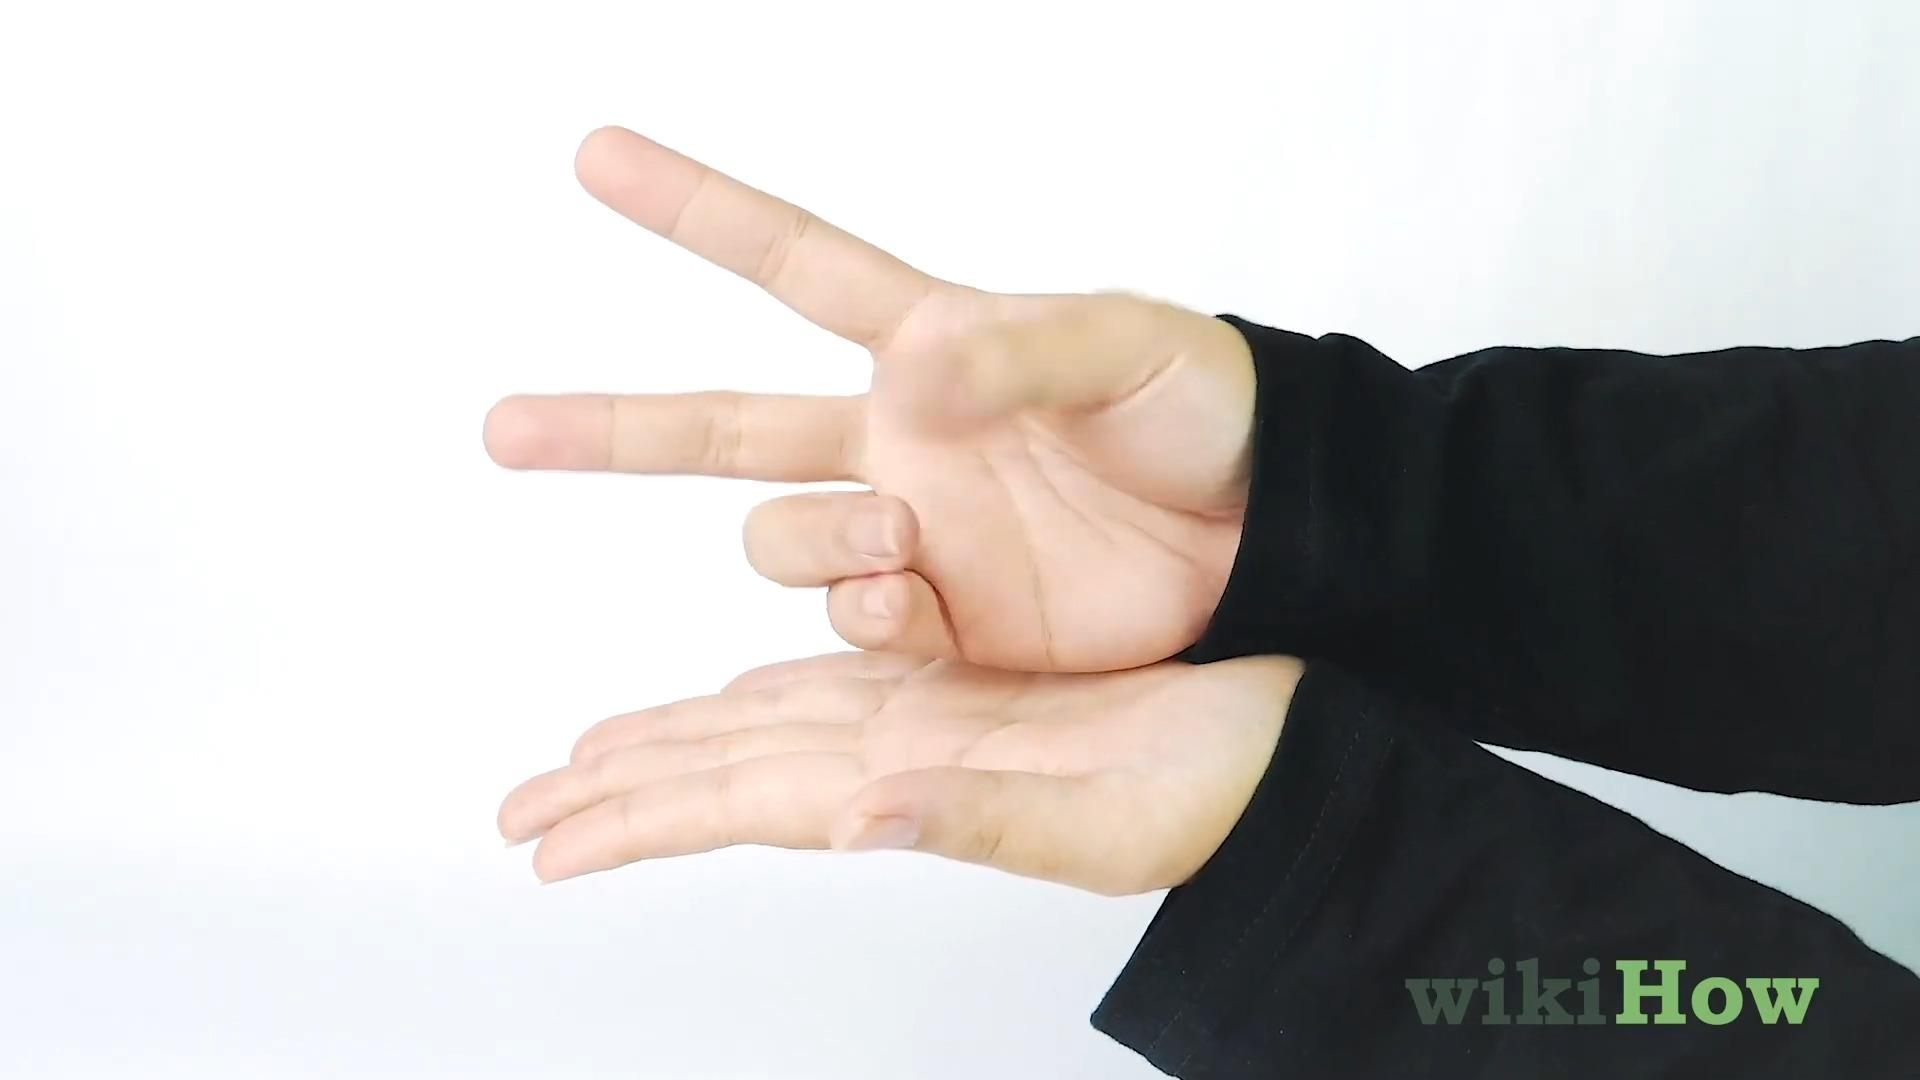Scissors: (480, 123, 1257, 675)
